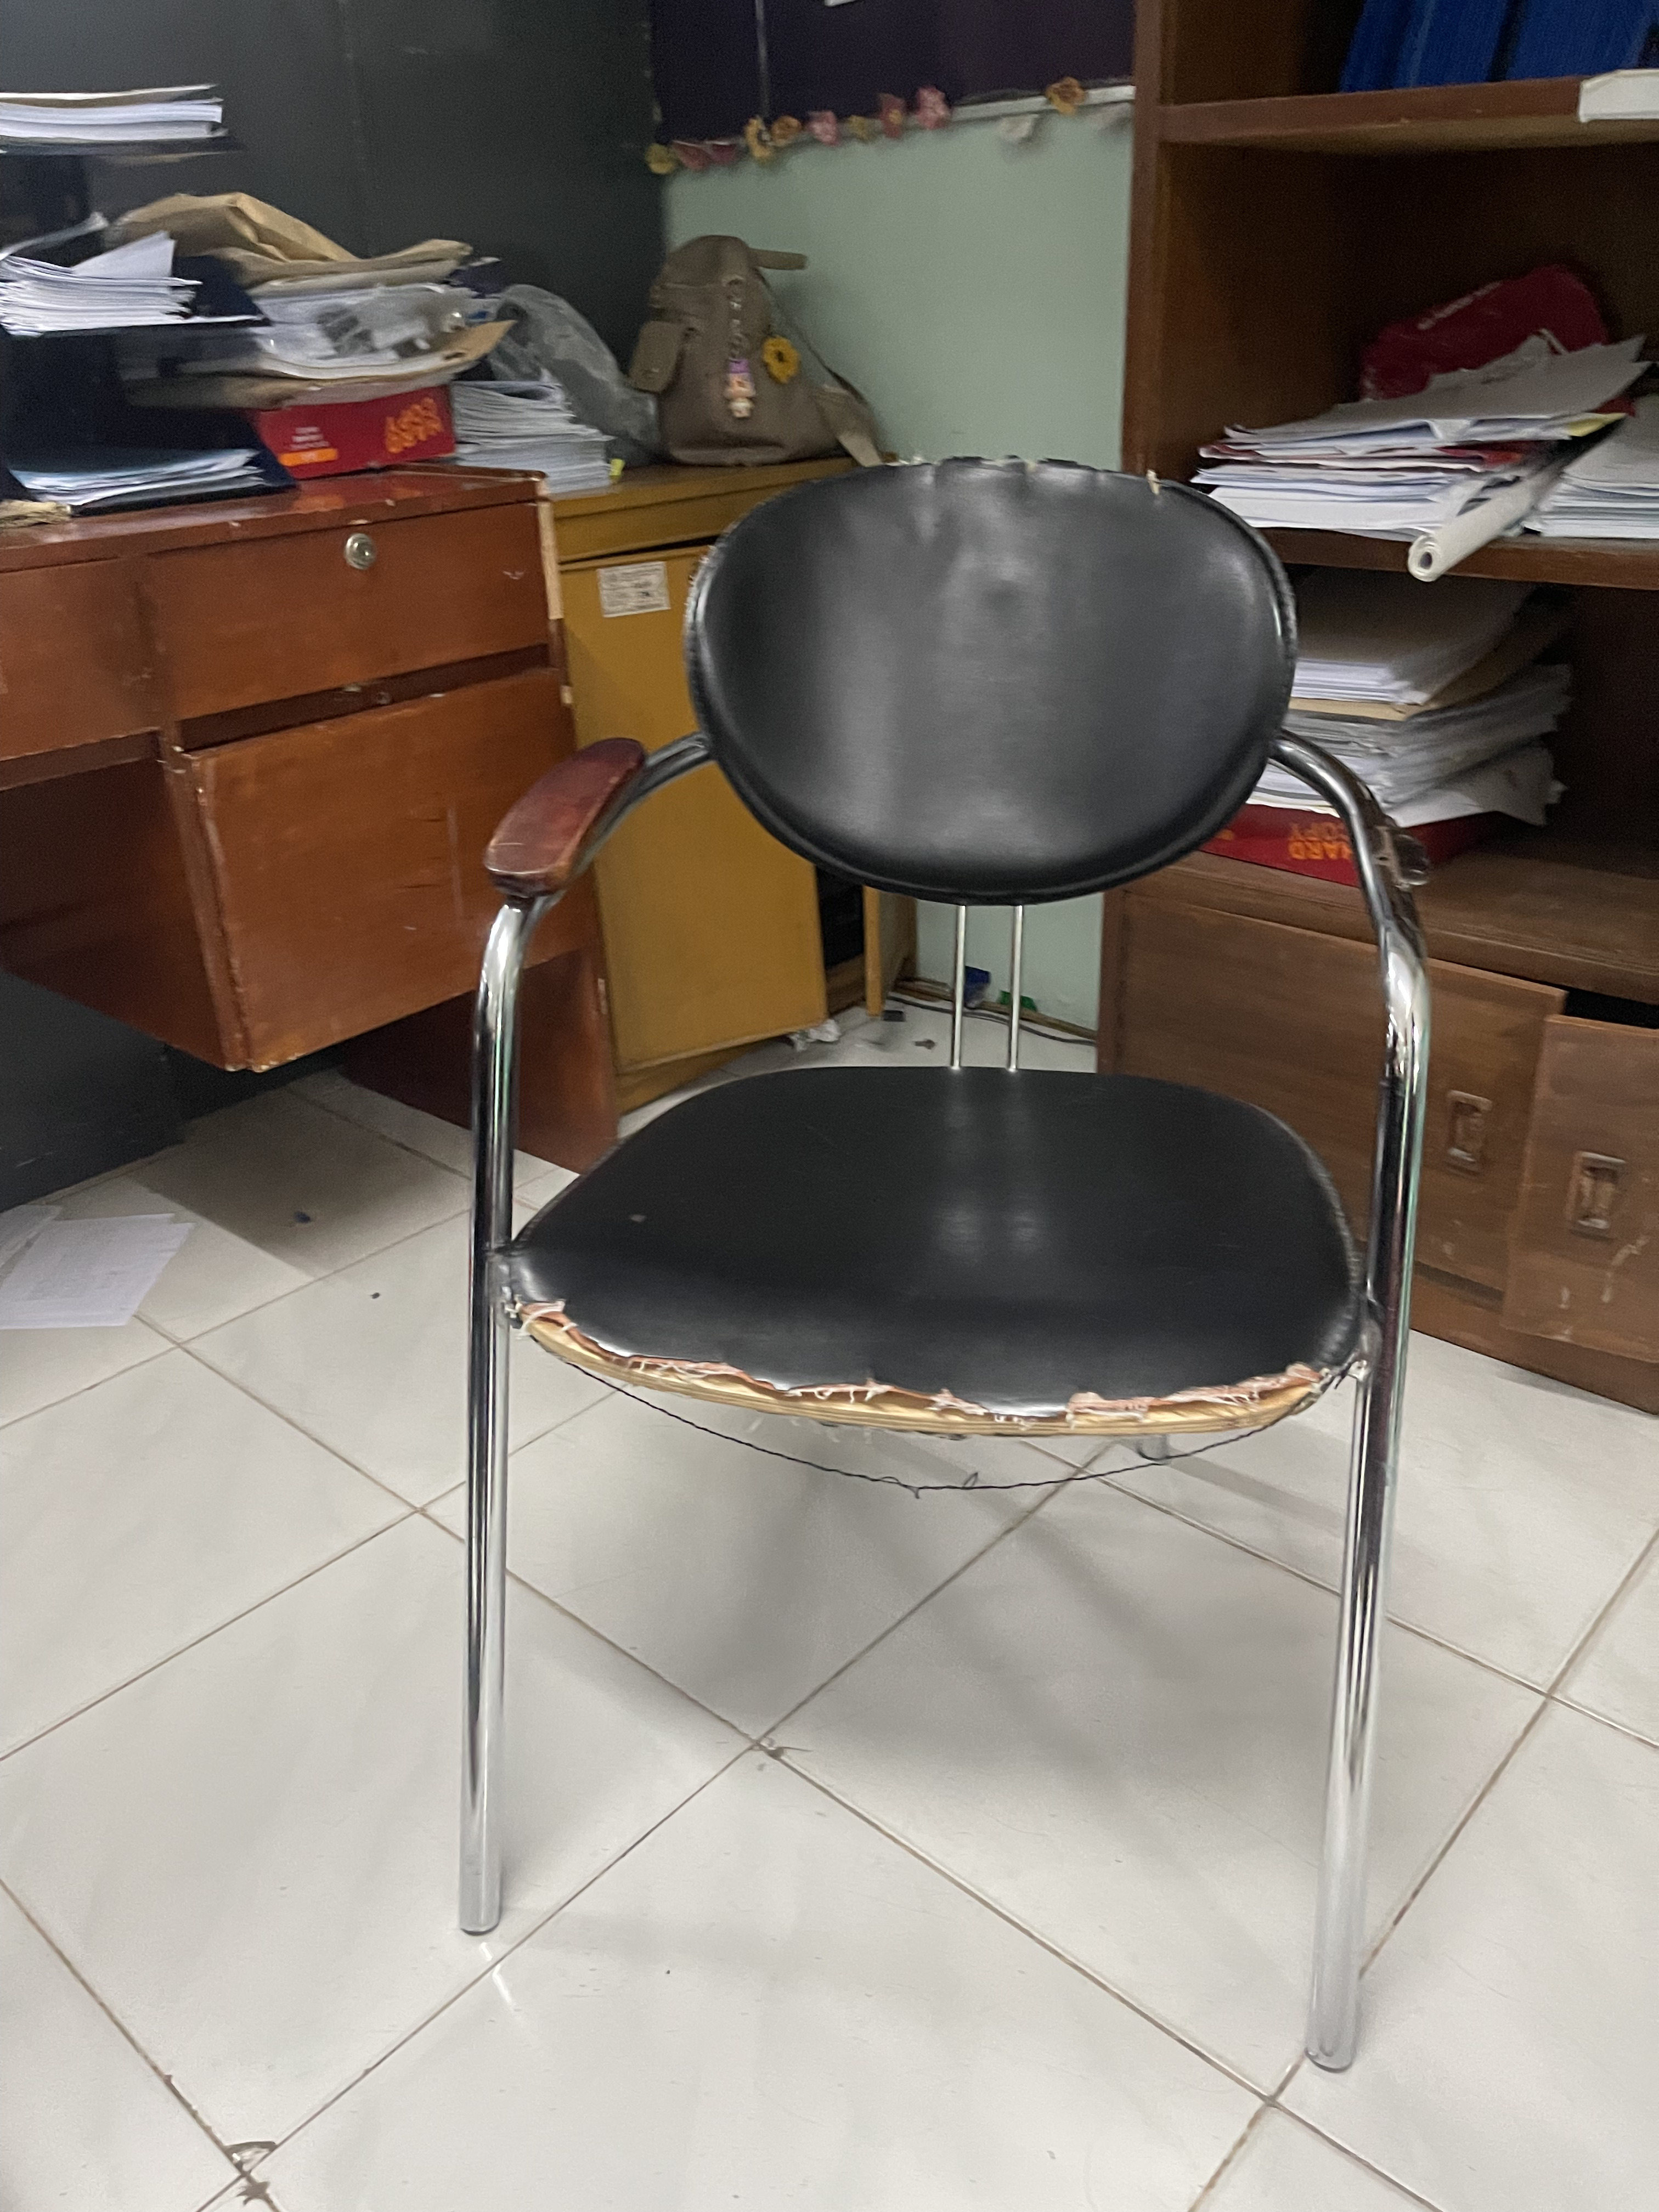chair1: (450, 453, 1436, 2080)
